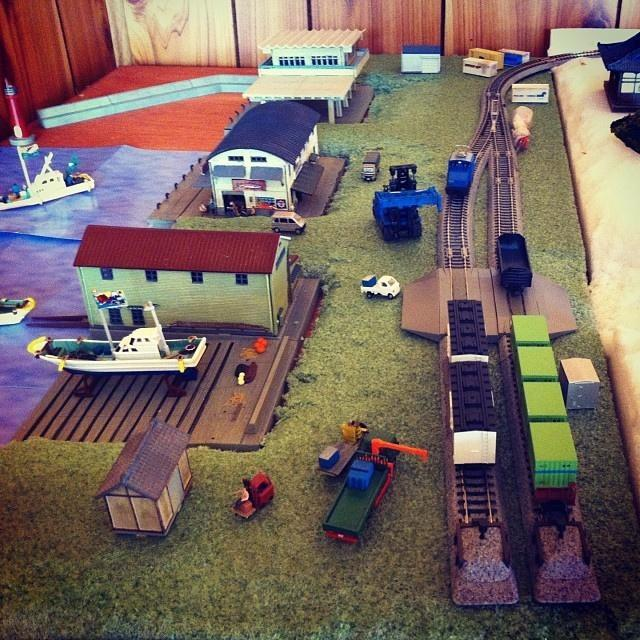truck: (326, 434, 434, 552), (373, 164, 443, 241), (360, 276, 402, 297), (270, 212, 307, 232), (360, 152, 381, 180)
